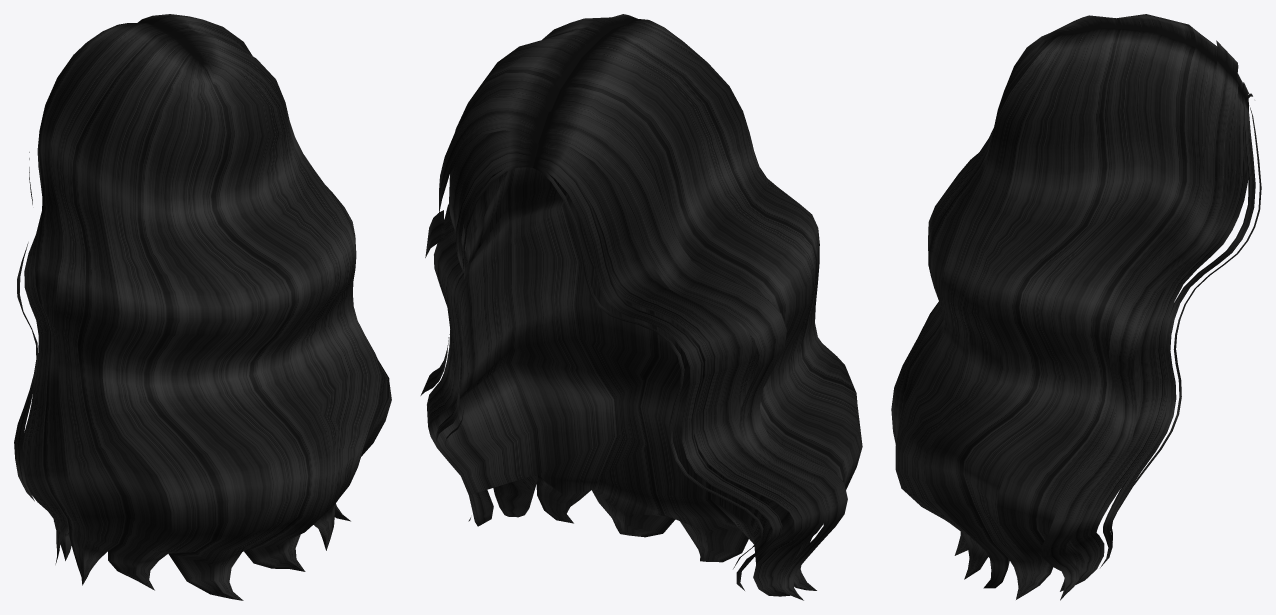
3 views of the same model, side by side, from view 1: azimuth 30°, elevation 25°; view 2: azimuth 150°, elevation 25°; view 3: azimuth 270°, elevation 25° (orthographic). The views are drawn at different scales.
Parts seen in each view (by area): view 1: geometry_0; view 2: geometry_0; view 3: geometry_0.
Part boxes in pixels (left/top/right/bottom): geometry_0: left=14, top=14, right=391, bottom=600; geometry_0: left=420, top=14, right=862, bottom=600; geometry_0: left=891, top=14, right=1261, bottom=600.
Bounding box in the file's own units: 2.24 × 3.06 × 1.93.
Materials: 1 (1 with a texture image).
